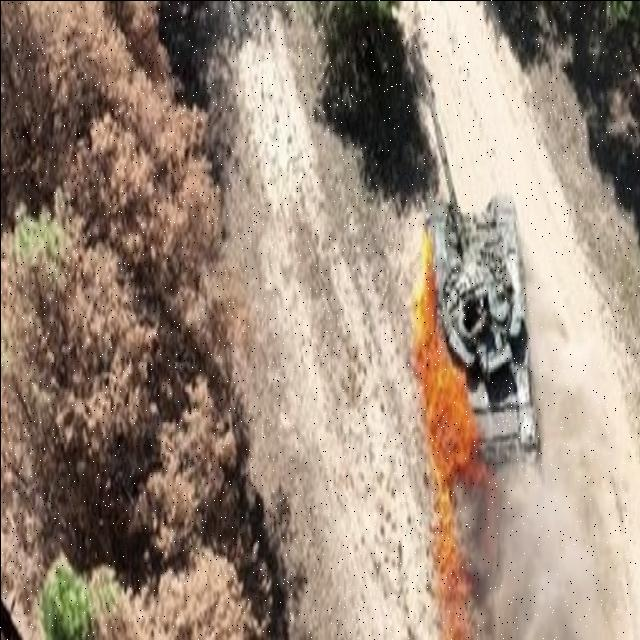TANK: (409, 51, 555, 509)
